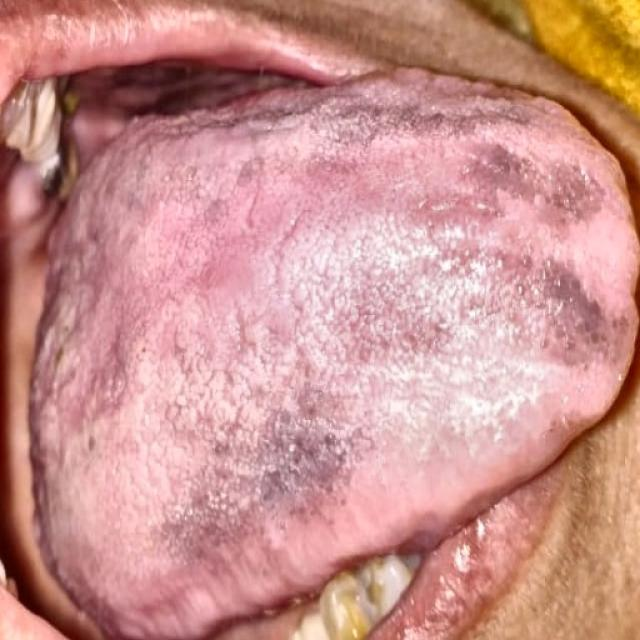leukoplakia-like-detection: (28, 112, 182, 538)
processing_area: (34, 68, 639, 639)
